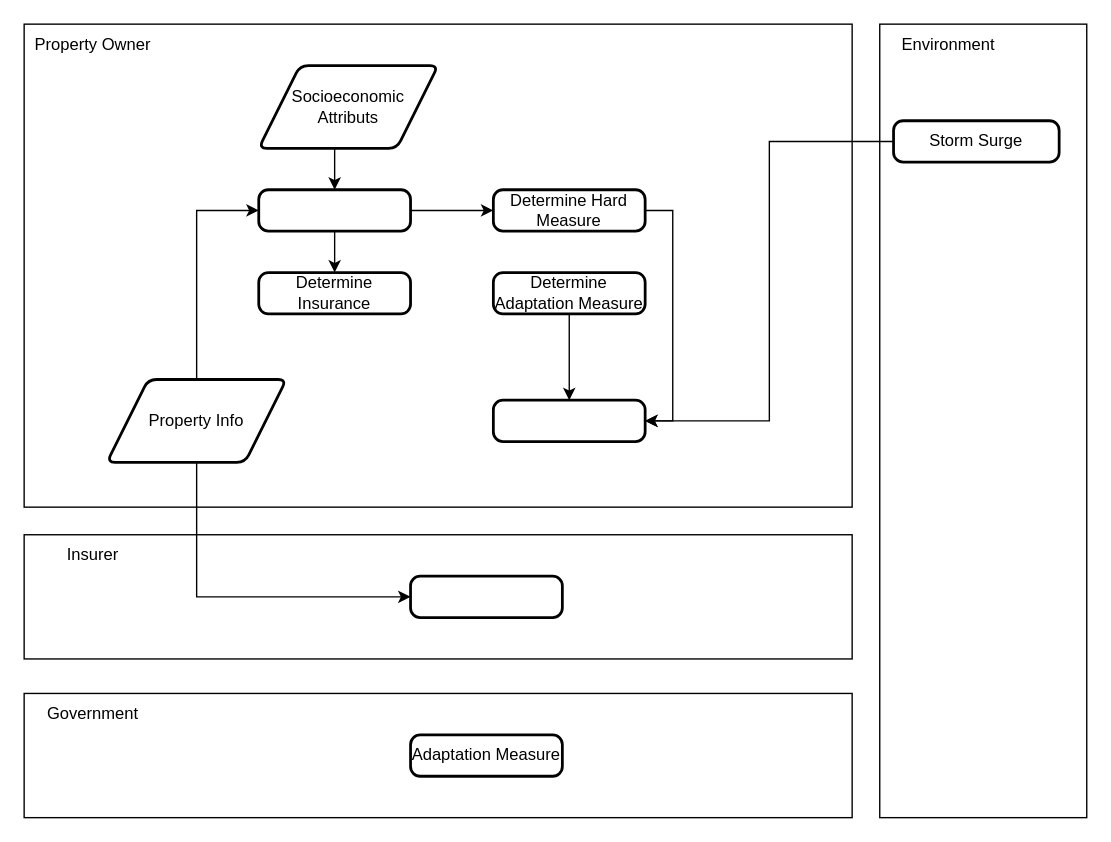
Some shapes in this 1111 by 842 pixel diagram are drawn without their labels. The centre of each missing label's shape, as x and y in pixels:
Assess Damage: the point at 568,420
Assess Risk: the point at 334,210
Determine Premium Rate: the point at 485,596
